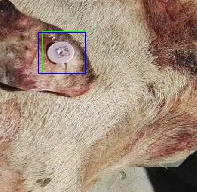text: (42, 31, 85, 73)
